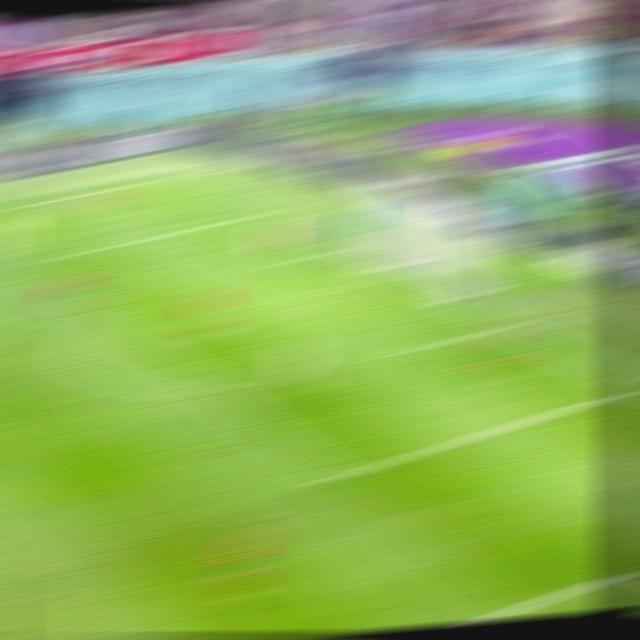bigarea_bottom_inner: (313, 465, 356, 489)
bigarea_top_inner: (3, 254, 43, 274)
bigarea_top_outter: (239, 207, 277, 219)
bottom_arc_area_intersection: (189, 380, 228, 397)
corner: (155, 170, 193, 181)
smallarea_bottom_inner: (395, 336, 440, 359)
smallarea_top_inner: (242, 258, 282, 276)
smallarea_top_outter: (318, 240, 357, 256)
top_arc_area_intersection: (80, 306, 120, 324)
